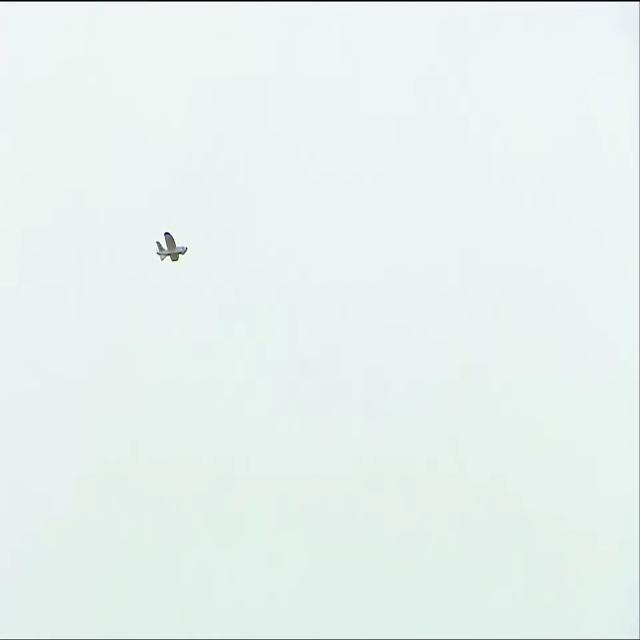iha: (156, 231, 188, 263)
